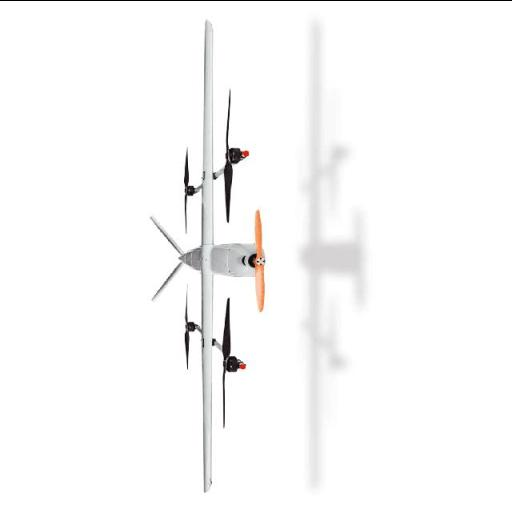uav: (148, 6, 274, 496)
